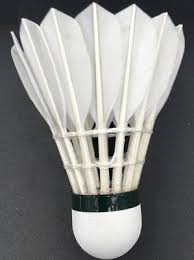shuttle: (5, 2, 189, 257)
